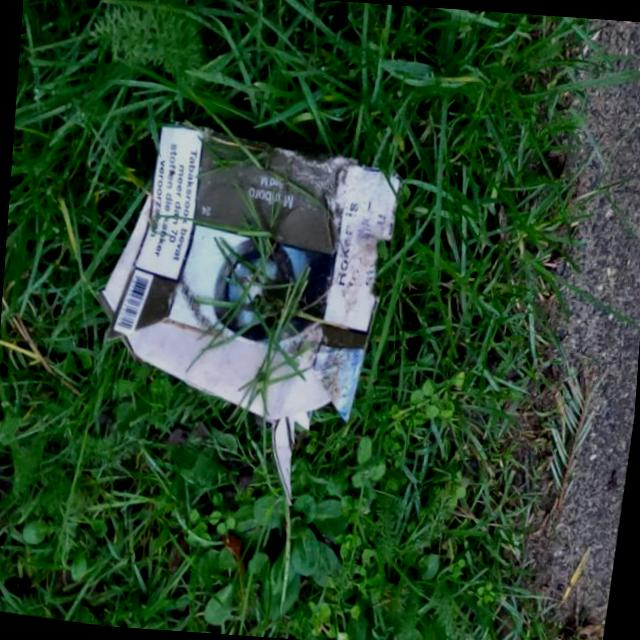Paper: (79, 112, 407, 516)
